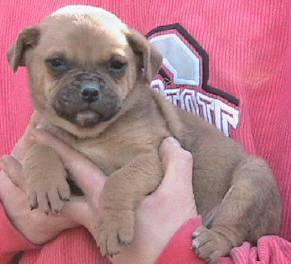dog: (1, 5, 282, 262)
